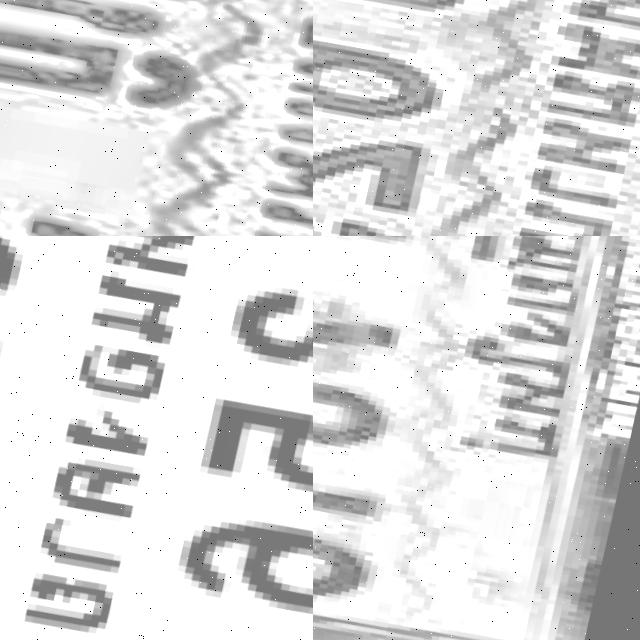license-plate: (313, 236, 640, 640), (0, 236, 313, 640), (313, 0, 640, 236), (0, 0, 313, 236)
